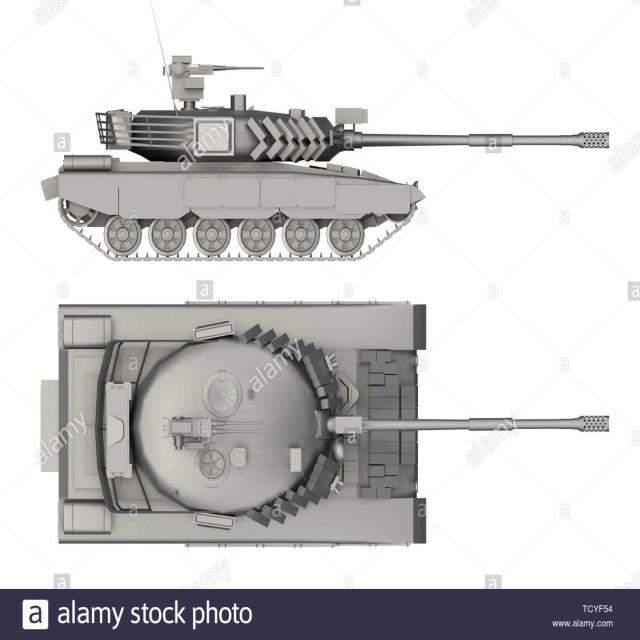MIL_MBT: (16, 281, 496, 548), (43, 40, 618, 259)
